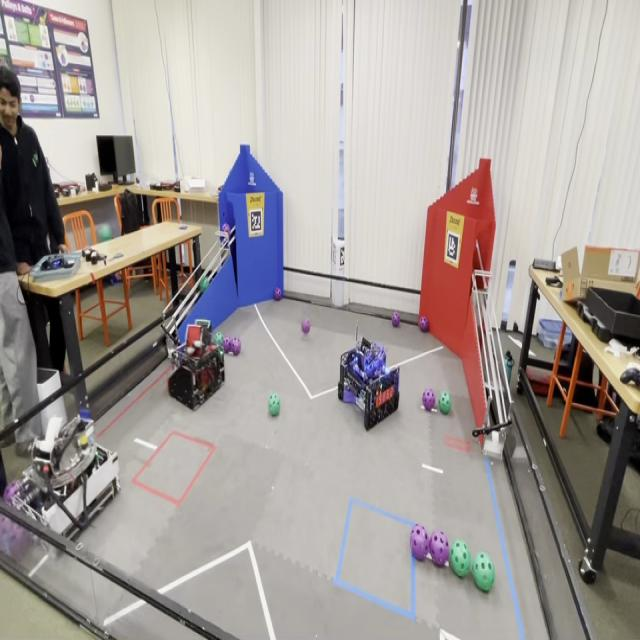artifact_green: (472, 553, 495, 592), (450, 540, 471, 578), (268, 394, 280, 417), (439, 392, 451, 414), (98, 224, 112, 242), (199, 277, 209, 292), (214, 331, 223, 346), (218, 348, 223, 358)
artifact_purple: (0, 516, 30, 557), (410, 524, 429, 561), (430, 531, 449, 566), (4, 480, 20, 504), (422, 389, 435, 411), (231, 337, 241, 355), (419, 317, 429, 331), (223, 336, 231, 353), (392, 312, 400, 328), (302, 319, 310, 334), (274, 287, 282, 301), (222, 223, 230, 234)
